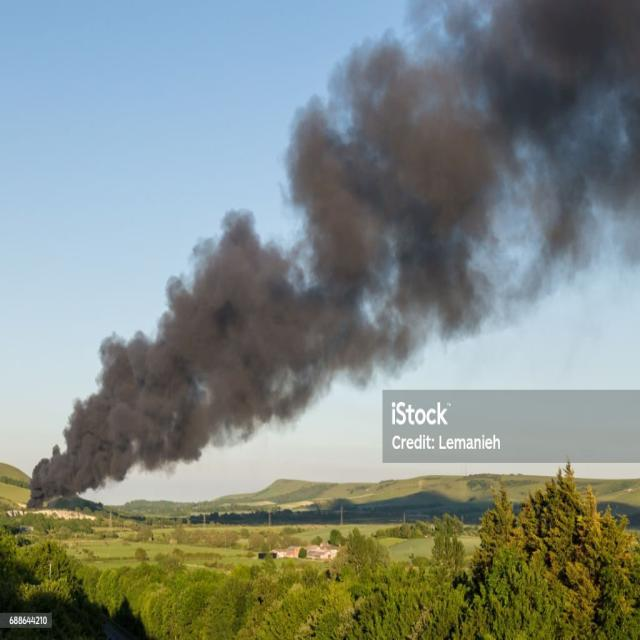Smoke: (18, 32, 374, 508), (340, 0, 640, 375)
